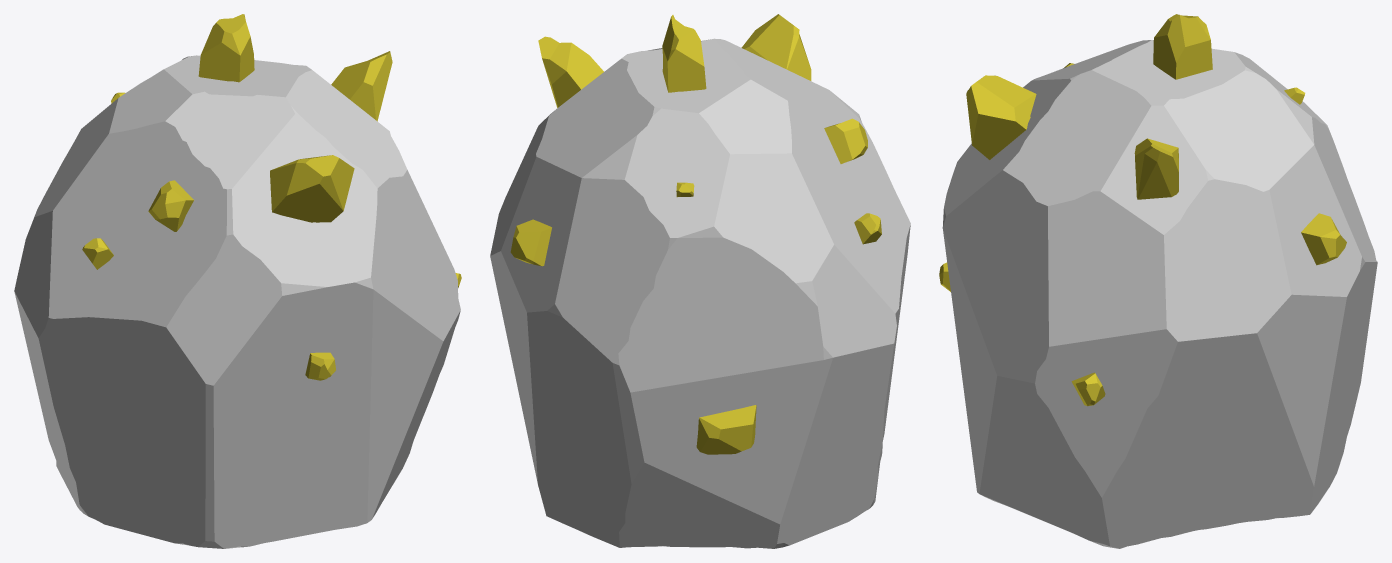
File: gold_little_group.fbx
The picture shows the model from 3 angles, left to right: view 1: azimuth 30°, elevation 25°; view 2: azimuth 150°, elevation 25°; view 3: azimuth 270°, elevation 25°; orthographic projection. The views are drawn at different scales.
Parts seen in each view (by area): view 1: Rock, Gold; view 2: Rock, Gold; view 3: Rock, Gold.
Part boxes in pixels (x1,y1,x2,y2): Rock: (14,55,460,548); Gold: (82,14,461,380); Rock: (490,38,910,548); Gold: (510,14,881,454); Rock: (942,40,1377,548); Gold: (939,14,1346,406).
Size of the model in its own units: 262 by 295 by 248.
